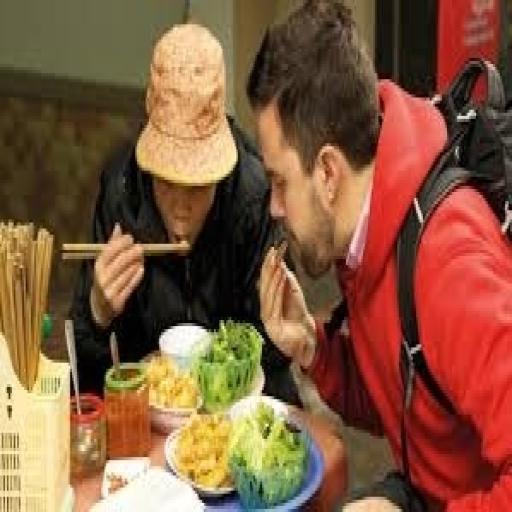eating: (245, 0, 510, 509)
